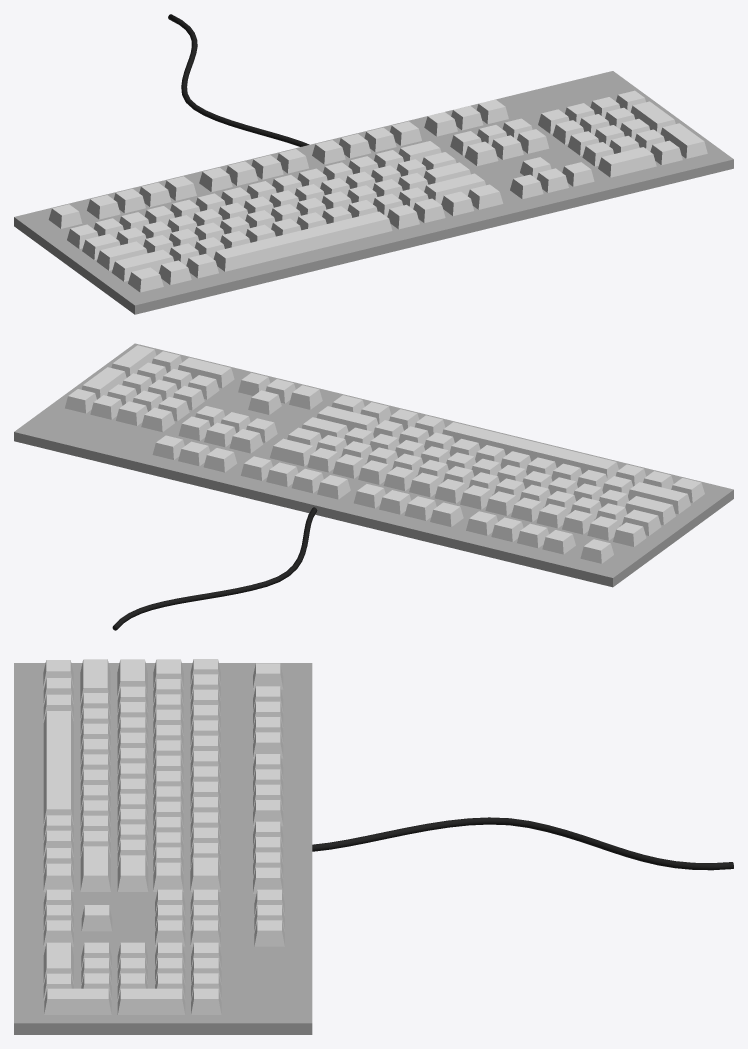
File: keyboard.fbx
The picture shows the model from 3 angles, top to bottom: view 1: azimuth 30°, elevation 25°; view 2: azimuth 150°, elevation 25°; view 3: azimuth 270°, elevation 25°; orthographic projection. The views are drawn at different scales.
Parts seen in each view (by area): view 1: key.018; view 2: key.018; view 3: key.018.
Boxes of the visible parts, bbox=[...] form: key.018: bbox=[14, 14, 733, 314]; key.018: bbox=[14, 343, 733, 630]; key.018: bbox=[14, 659, 733, 1034].
Bounding box in the file's own units: 844 × 28.6 × 713.
1 material, 1 textured.
